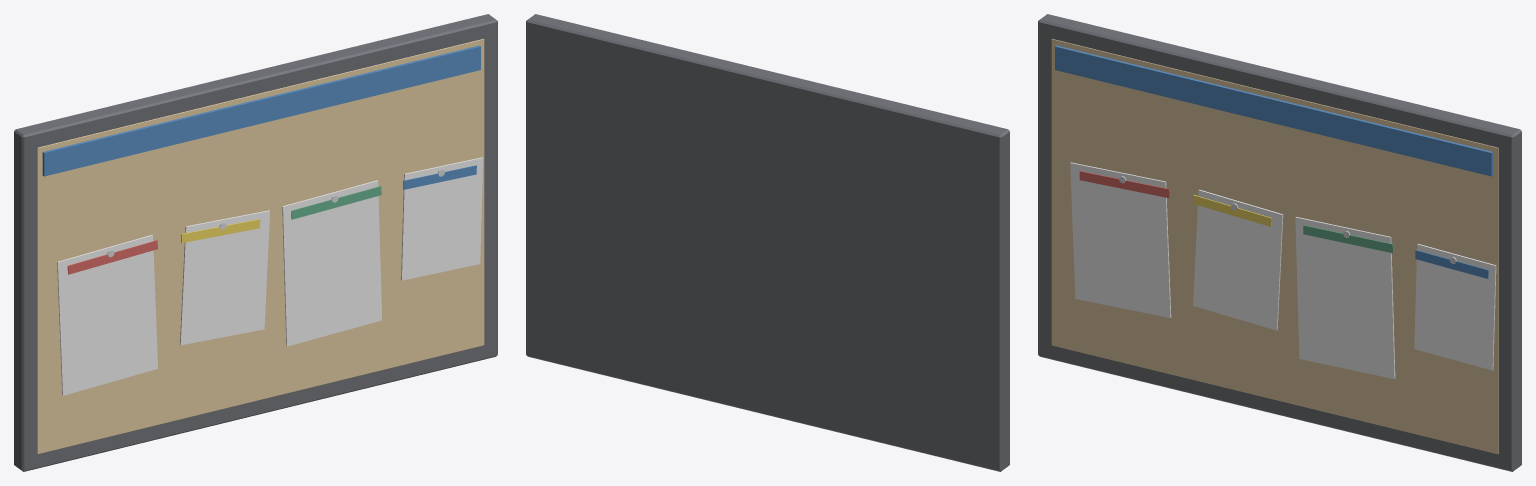
Rendered from community-sports-hall-and-changing-rooms-fixture-notic-179946d7__35119.glb.
3 renders of one model, left to right at view 1: azimuth 30°, elevation 25°; view 2: azimuth 150°, elevation 25°; view 3: azimuth 330°, elevation 25°, orthographic.
Parts seen in each view (by area): view 1: fixture-notice-board; view 2: fixture-notice-board; view 3: fixture-notice-board.
Part boxes in pixels (<box>): fixture-notice-board: <box>14,14,497,471</box>; fixture-notice-board: <box>526,14,1009,471</box>; fixture-notice-board: <box>1038,14,1521,471</box>.
Bounding box in the file's own units: 1.7 × 1.15 × 0.071.
